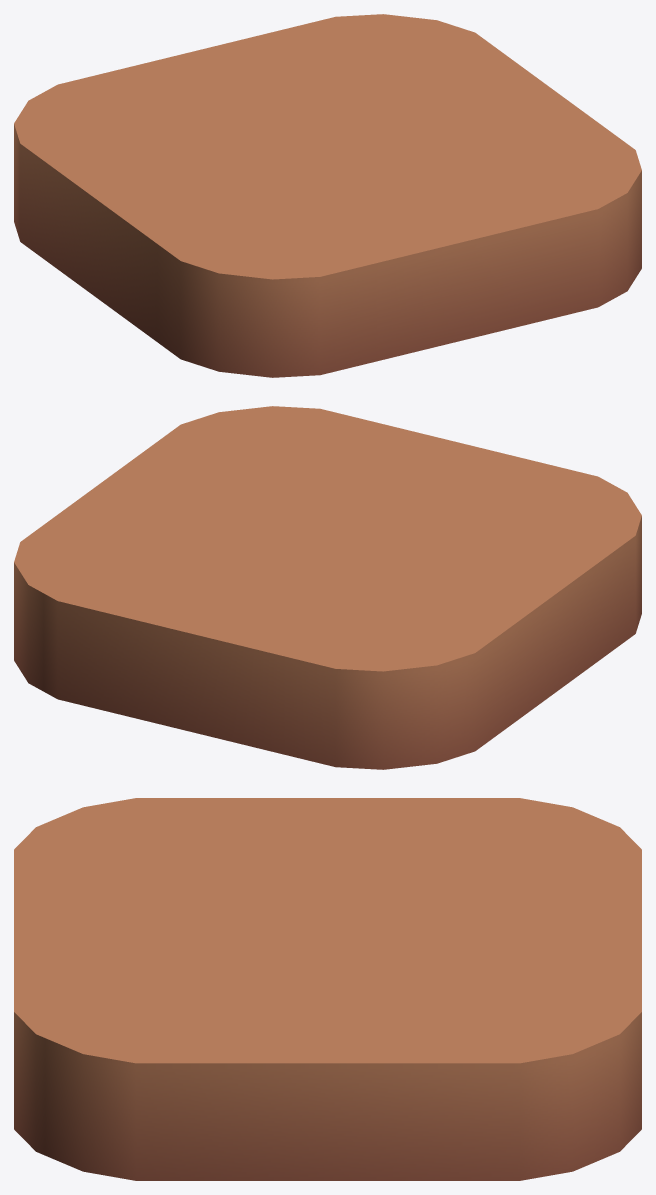
3 renders of one model, top to bottom at view 1: azimuth 30°, elevation 25°; view 2: azimuth 150°, elevation 25°; view 3: azimuth 270°, elevation 25°, orthographic. The views are drawn at different scales.
Parts seen in each view (by area): view 1: Cube.029; view 2: Cube.029; view 3: Cube.029.
Boxes of the visible parts, bbox=[...] form: Cube.029: bbox=[14, 14, 641, 377]; Cube.029: bbox=[14, 406, 641, 769]; Cube.029: bbox=[14, 798, 641, 1180].
Bounding box in the file's own units: 2 × 0.4131 × 2.
1 material, 1 textured.
